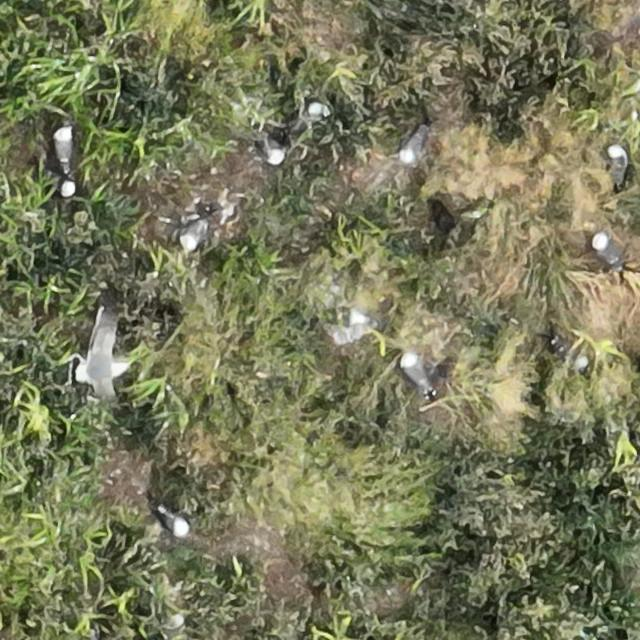F: (74, 317, 127, 396)
umineko: (552, 336, 590, 368), (399, 127, 426, 161), (403, 356, 428, 391), (594, 235, 620, 266), (162, 509, 188, 537), (181, 220, 206, 249), (54, 126, 72, 164), (609, 146, 627, 180), (262, 136, 284, 162), (306, 100, 328, 117)
